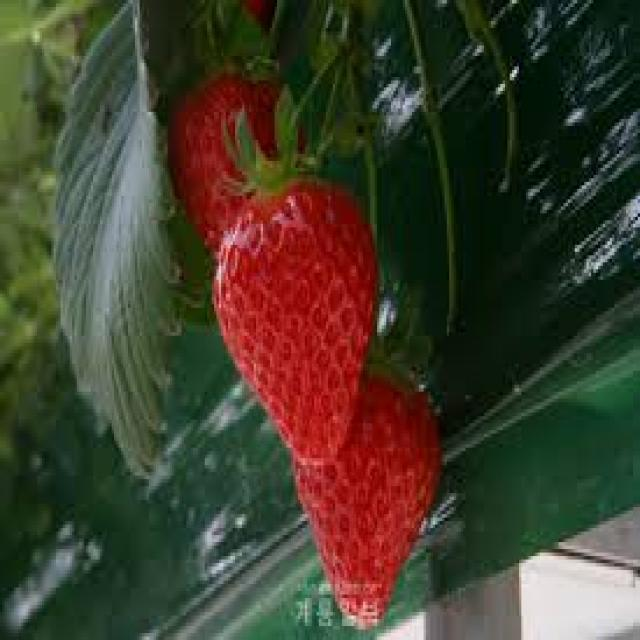Strawberry: (212, 178, 376, 467), (292, 369, 439, 621), (163, 58, 309, 258)
